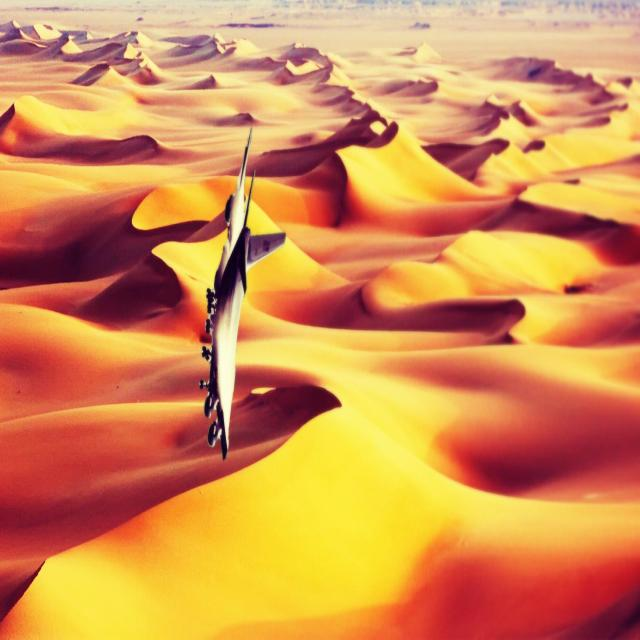airplane: (199, 124, 286, 460)
